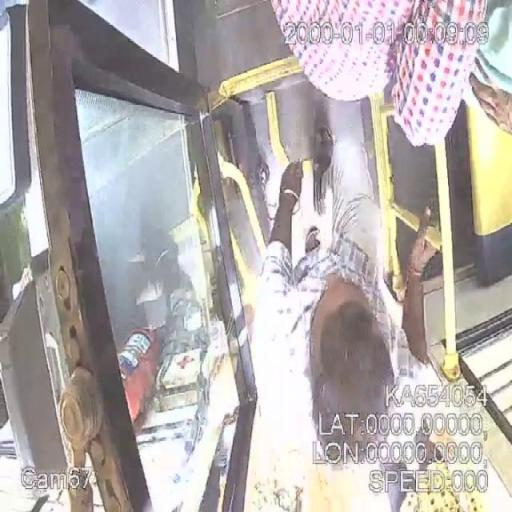persona: (247, 150, 441, 509)
